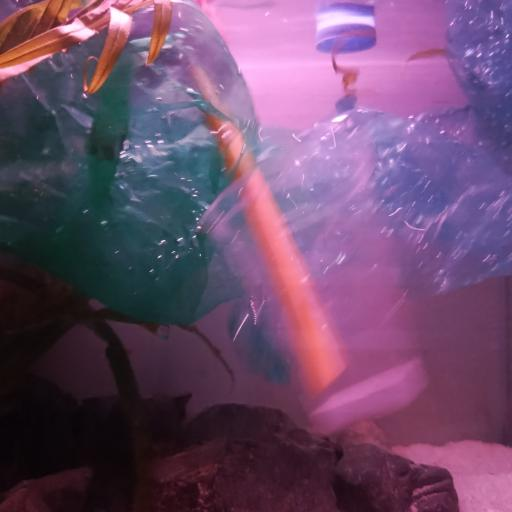bottle_cap: (318, 24, 376, 55)
plastic_bag: (0, 0, 259, 324), (338, 0, 512, 297)
plastic_cup: (197, 126, 429, 440)
plastic_straw: (189, 61, 347, 392)
